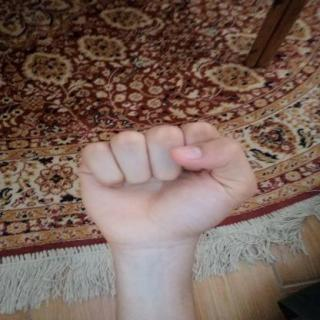SAD: (57, 110, 275, 260)
